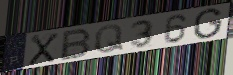3: (130, 18, 156, 48)
6: (163, 13, 188, 45)
B: (58, 27, 93, 62)
G: (192, 7, 224, 41)
Q: (94, 23, 125, 54)
X: (27, 31, 61, 67)
